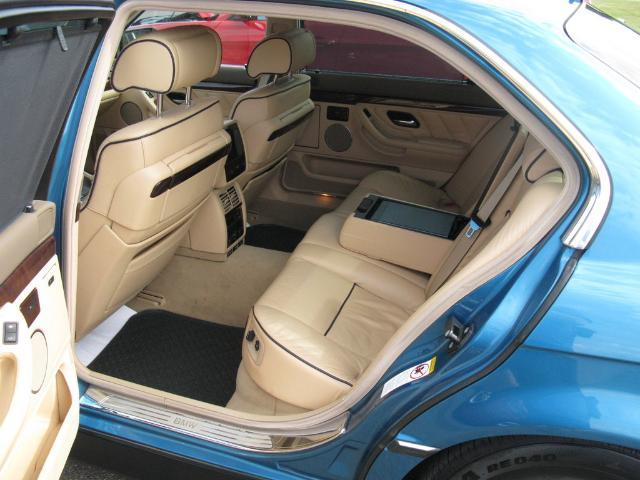Seatbelt: (424, 148, 522, 302)
